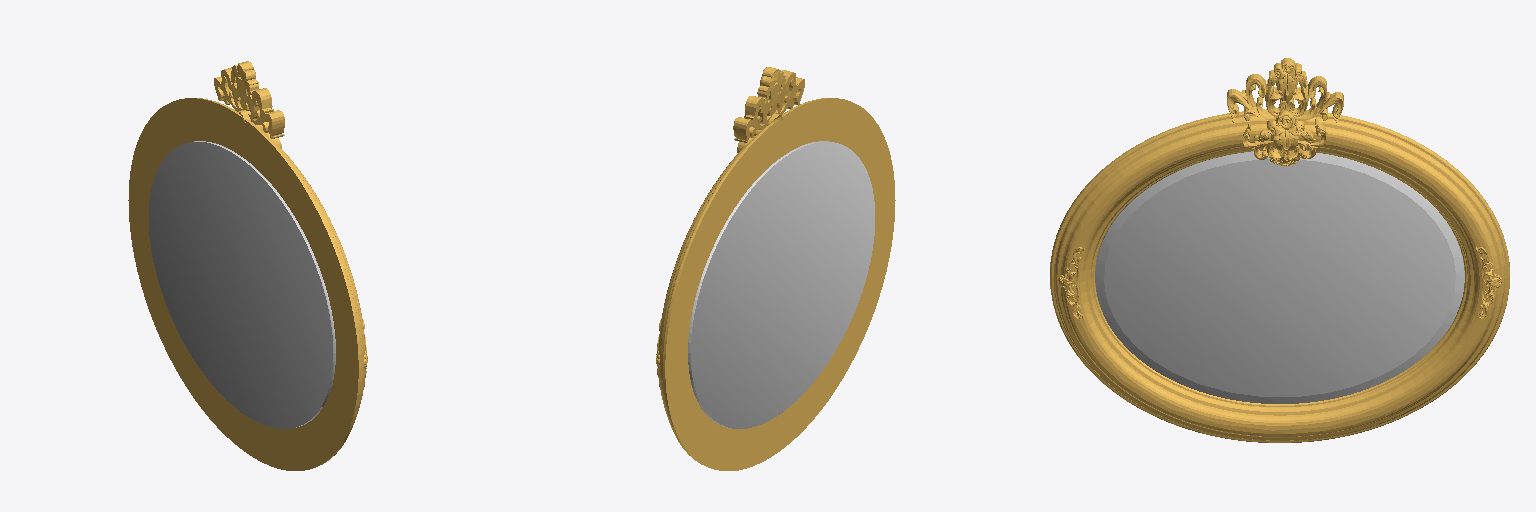
3 renders of one model, left to right at view 1: azimuth 30°, elevation 25°; view 2: azimuth 150°, elevation 25°; view 3: azimuth 270°, elevation 25°, orthographic.
Visible parts, largest first — view 1: mirror.001_mirror.002; view 2: mirror.001_mirror.002; view 3: mirror.001_mirror.002.
Boxes of the visible parts, x1,y1,x2,y2 form: mirror.001_mirror.002: [128, 61, 367, 470]; mirror.001_mirror.002: [656, 67, 895, 470]; mirror.001_mirror.002: [1050, 58, 1509, 442].
Size of the model in its own units: 0.0824 by 0.9953 by 1.08.
2 materials, 1 textured.